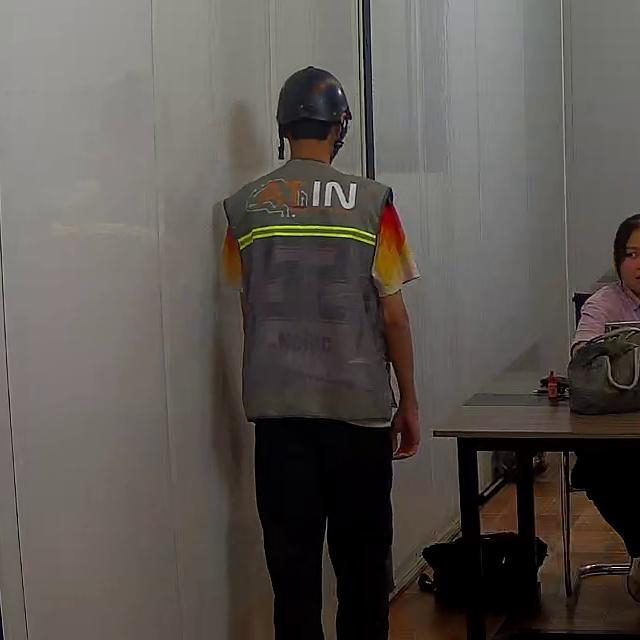helmet: (274, 64, 353, 155)
no_helmet: (613, 215, 640, 279)
none: (571, 281, 640, 355)
vest: (221, 164, 408, 427)
